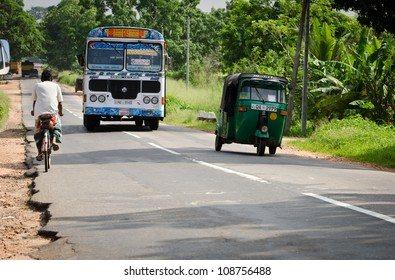bus: (81, 25, 166, 131)
threewheel: (213, 73, 291, 157)
